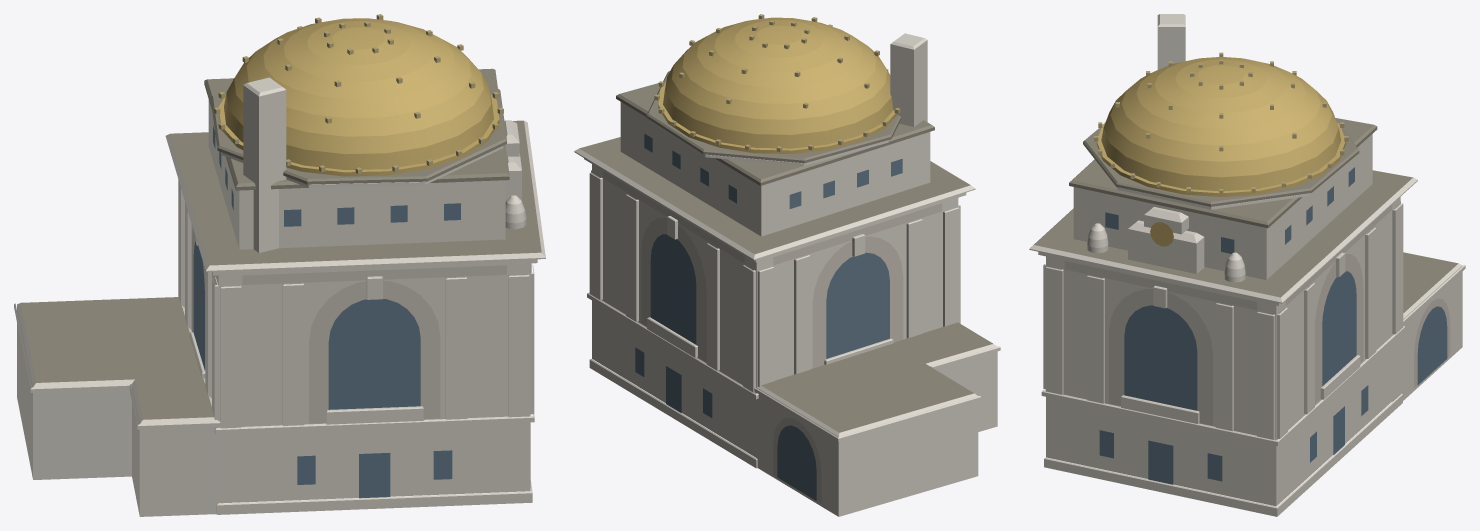
File: nyc-citizens-savings-bank.glb
3 renders of one model, left to right at view 1: azimuth 30°, elevation 25°; view 2: azimuth 150°, elevation 25°; view 3: azimuth 270°, elevation 25°, orthographic. The views are drawn at different scales.
Parts seen in each view (by area): view 1: Citizens Savings Bank; view 2: Citizens Savings Bank; view 3: Citizens Savings Bank.
Boxes of the visible parts, x1,y1,x2,y2 form: Citizens Savings Bank: [14, 14, 545, 516]; Citizens Savings Bank: [574, 14, 1000, 516]; Citizens Savings Bank: [1029, 14, 1465, 516].
Bounding box in the file's own units: 42.43 × 34.5 × 37.47.
